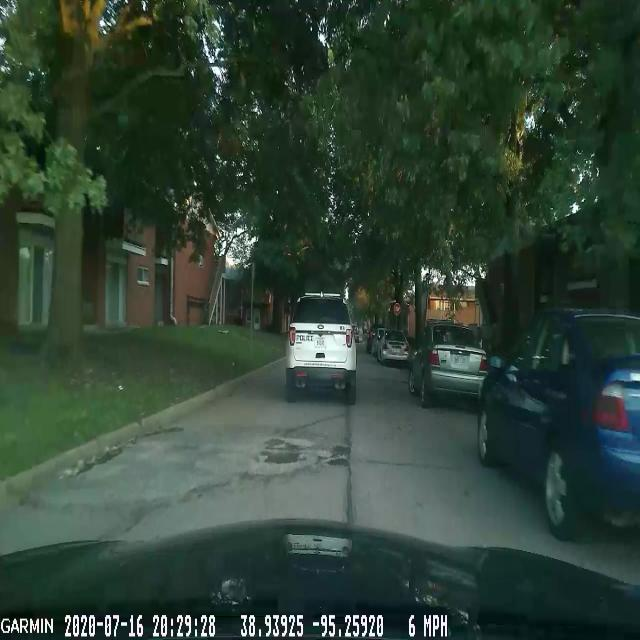Pothole: (253, 424, 310, 485), (319, 434, 357, 479)
